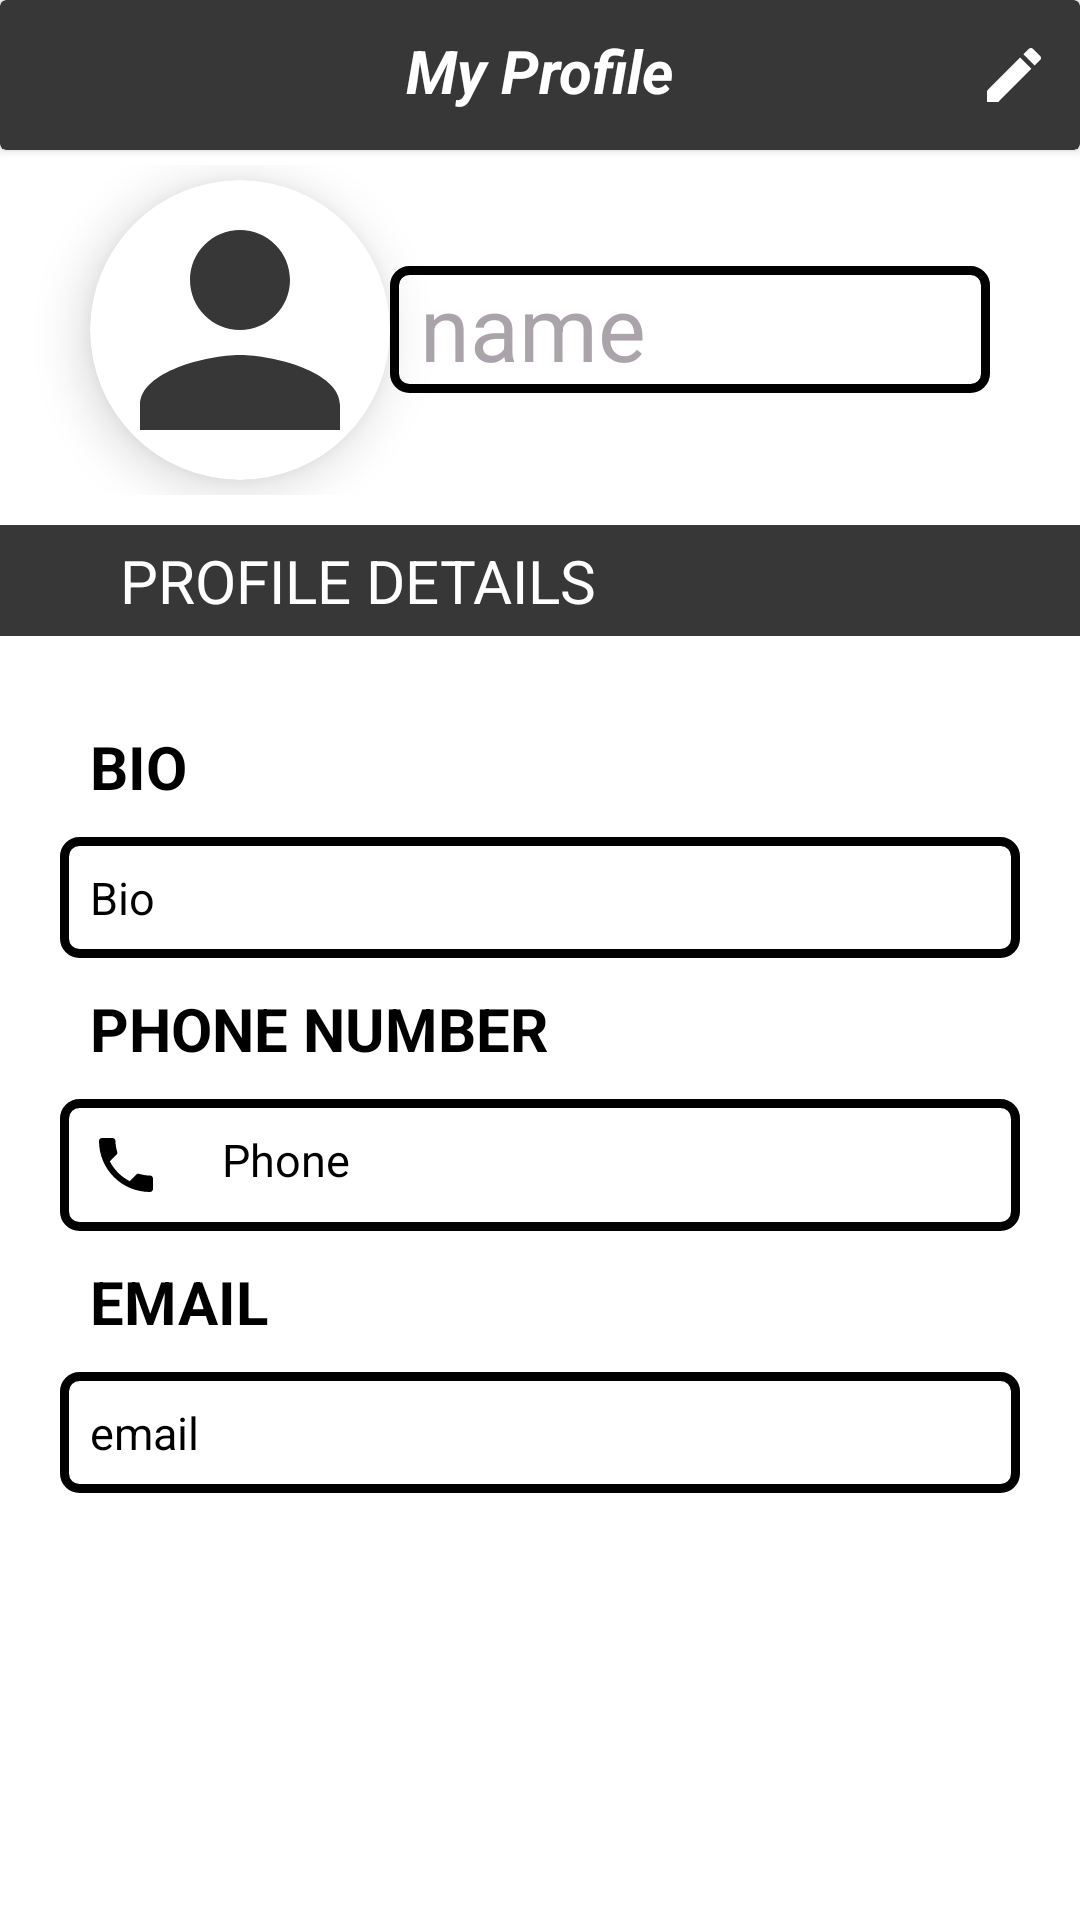

Named icons in this screenshot (1080×1920) and their bounding boxes, Rect(x1, y1, x2, y2):
edit: Rect(987, 48, 1041, 102)
